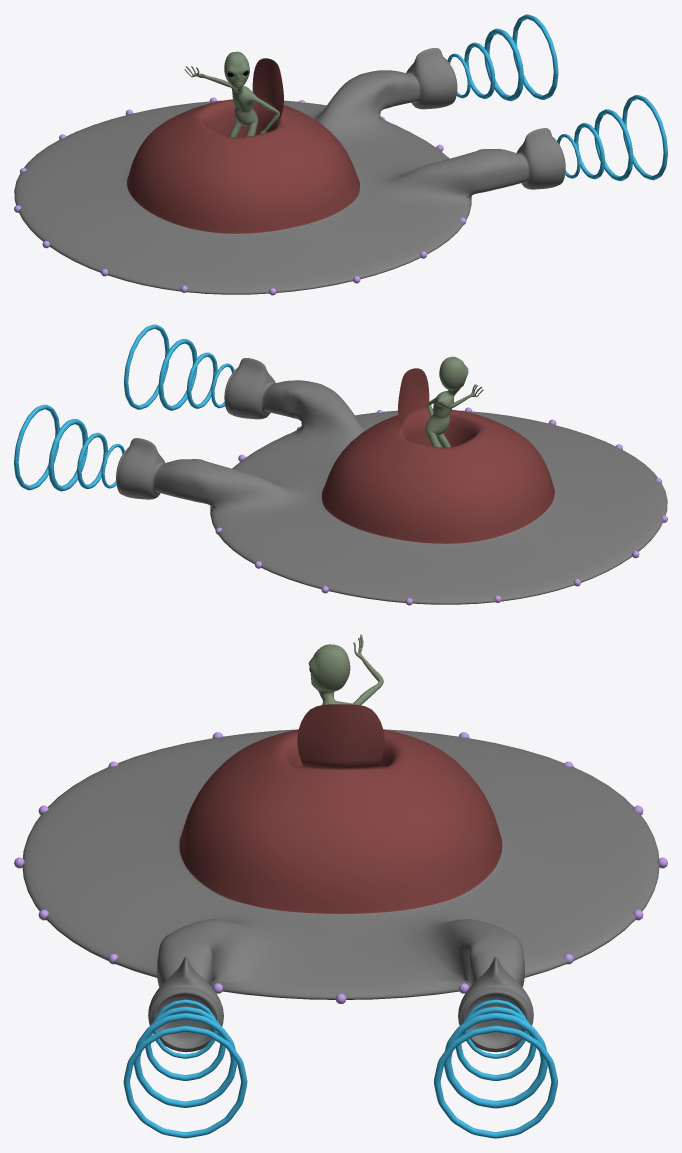
File: ufo.glb
The picture shows the model from 3 angles, top to bottom: view 1: azimuth 30°, elevation 25°; view 2: azimuth 150°, elevation 25°; view 3: azimuth 270°, elevation 25°; orthographic projection. The views are drawn at different scales.
Parts seen in each view (by area): view 1: Cube, Alien_low_poly, Circle.007, Circle.005, Circle.006, Circle.004, Circle.003, Circle.002; view 2: Cube, Alien_low_poly, Circle.007, Circle.005, Circle.006, Circle.004, Circle.003, Circle.002; view 3: Cube, Circle.007, Alien_low_poly, Circle.006, Circle.005, Circle.004, Circle.002, Circle.003.
Boxes of the visible parts, left/top/right/bottom form: Cube: left=14, top=48, right=565, bottom=294; Alien_low_poly: left=184, top=51, right=279, bottom=137; Circle.007: left=512, top=14, right=558, bottom=99; Circle.005: left=484, top=28, right=523, bottom=101; Circle.006: left=622, top=95, right=667, bottom=180; Circle.004: left=594, top=109, right=633, bottom=181; Circle.003: left=464, top=42, right=495, bottom=98; Circle.002: left=574, top=123, right=604, bottom=179; Cube: left=116, top=358, right=667, bottom=604; Alien_low_poly: left=425, top=356, right=483, bottom=447; Circle.007: left=14, top=404, right=59, bottom=490; Circle.005: left=48, top=418, right=87, bottom=491; Circle.006: left=124, top=324, right=169, bottom=409; Circle.004: left=158, top=338, right=197, bottom=410; Circle.003: left=77, top=432, right=107, bottom=489; Circle.002: left=186, top=352, right=217, bottom=408; Cube: left=22, top=704, right=659, bottom=1052; Circle.007: left=434, top=1025, right=557, bottom=1138; Alien_low_poly: left=308, top=634, right=383, bottom=705; Circle.006: left=123, top=1026, right=247, bottom=1138; Circle.005: left=444, top=1012, right=547, bottom=1108; Circle.004: left=133, top=1013, right=237, bottom=1107; Circle.002: left=145, top=1006, right=225, bottom=1080; Circle.003: left=455, top=1006, right=536, bottom=1080.
Size of the model in its own units: 4.5 by 1.57 by 3.28.
